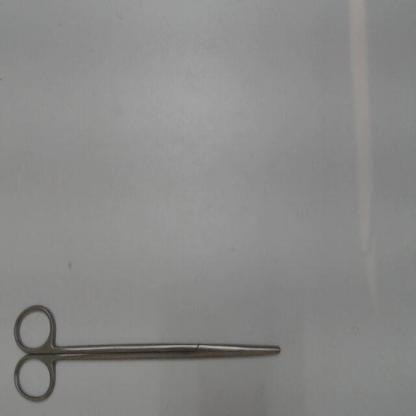9 Metzenbaum Scissors: (10, 297, 286, 408)
